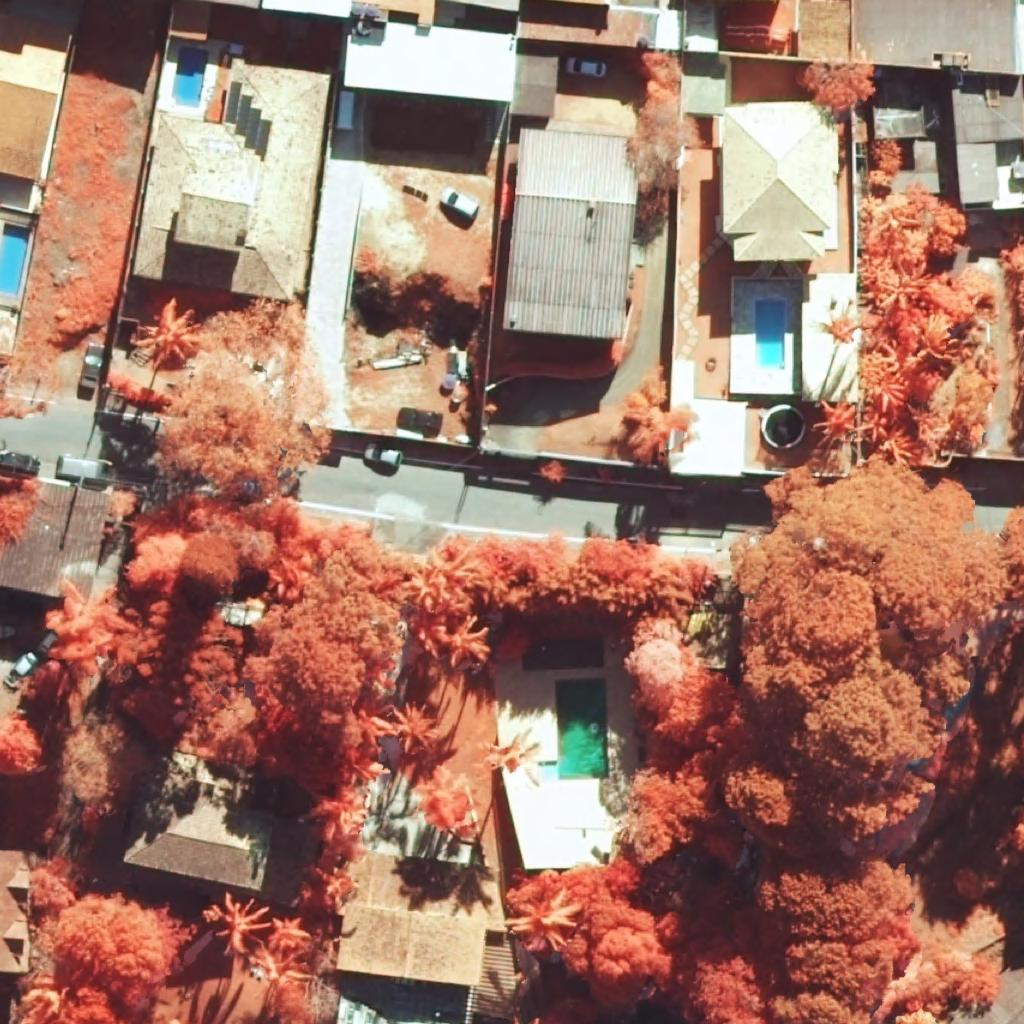pool: (556, 678, 609, 780), (172, 46, 208, 107), (756, 300, 784, 370)
